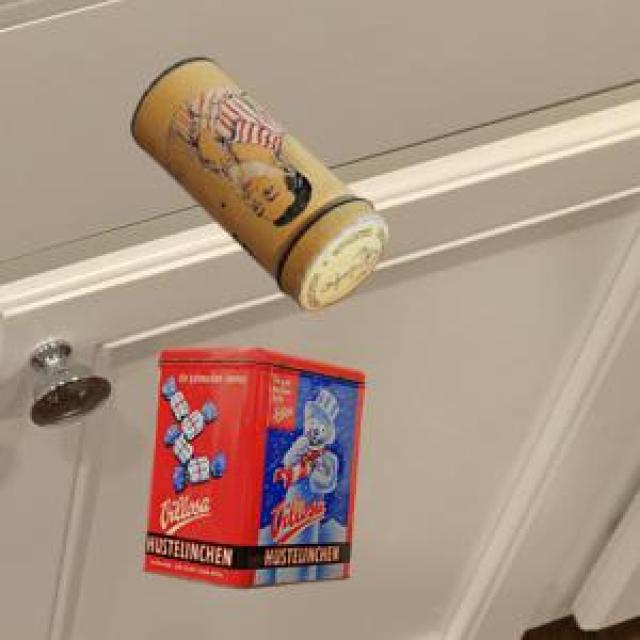logam: (129, 54, 385, 308), (140, 345, 362, 586)
